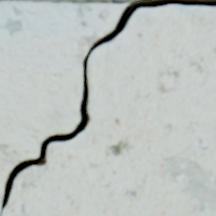broken_brick: (1, 6, 215, 215), (0, 2, 129, 212)
crack: (0, 0, 215, 215)
